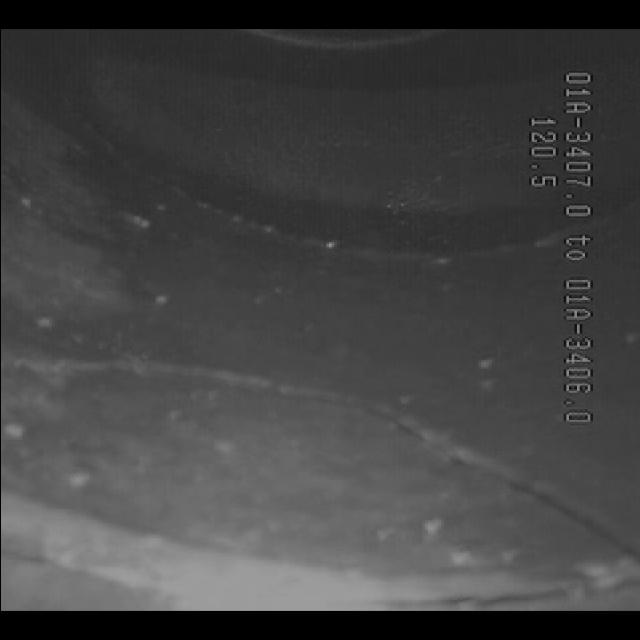Crack: (101, 320, 535, 493)
